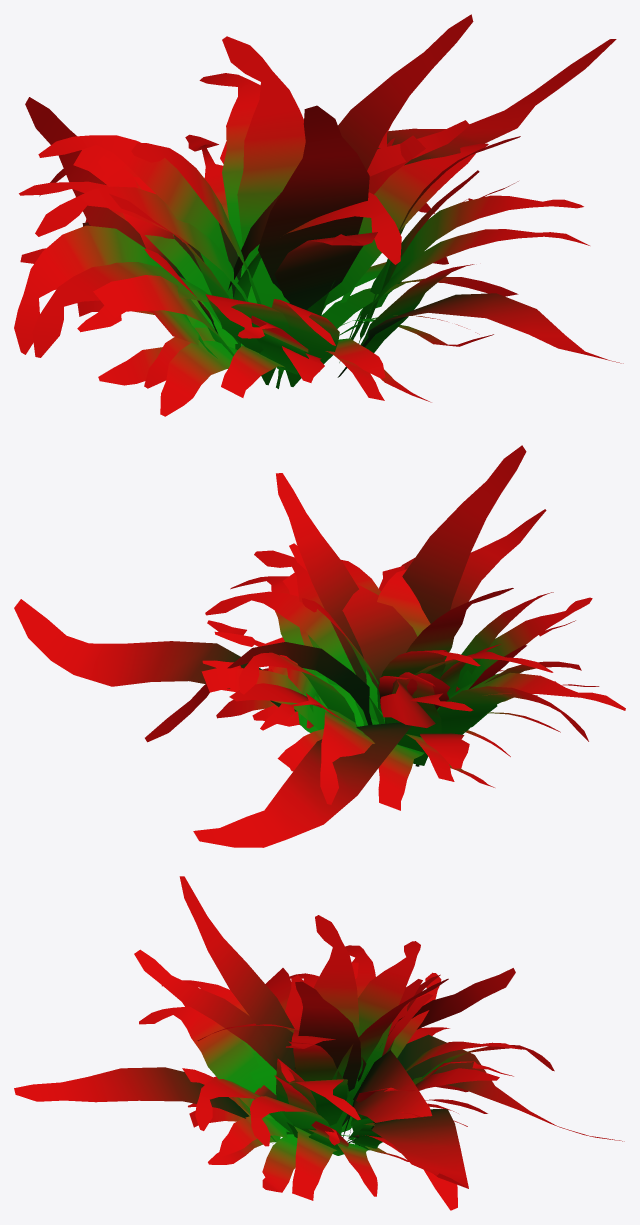
The model's file is Boston Fern_LOD1_Var3_rhDrC.fbx.
3 renders of one model, top to bottom at view 1: azimuth 30°, elevation 25°; view 2: azimuth 150°, elevation 25°; view 3: azimuth 270°, elevation 25°, orthographic. The views are drawn at different scales.
Visible parts, largest first — view 1: _3b21_Var3_LOD1; view 2: _3b21_Var3_LOD1; view 3: _3b21_Var3_LOD1.
Boxes of the visible parts, left/top/right/bottom form: _3b21_Var3_LOD1: left=14, top=14, right=623, bottom=416; _3b21_Var3_LOD1: left=14, top=445, right=625, bottom=847; _3b21_Var3_LOD1: left=14, top=876, right=624, bottom=1210.
Size of the model in its own units: 16.28 by 7.8 by 17.74.
